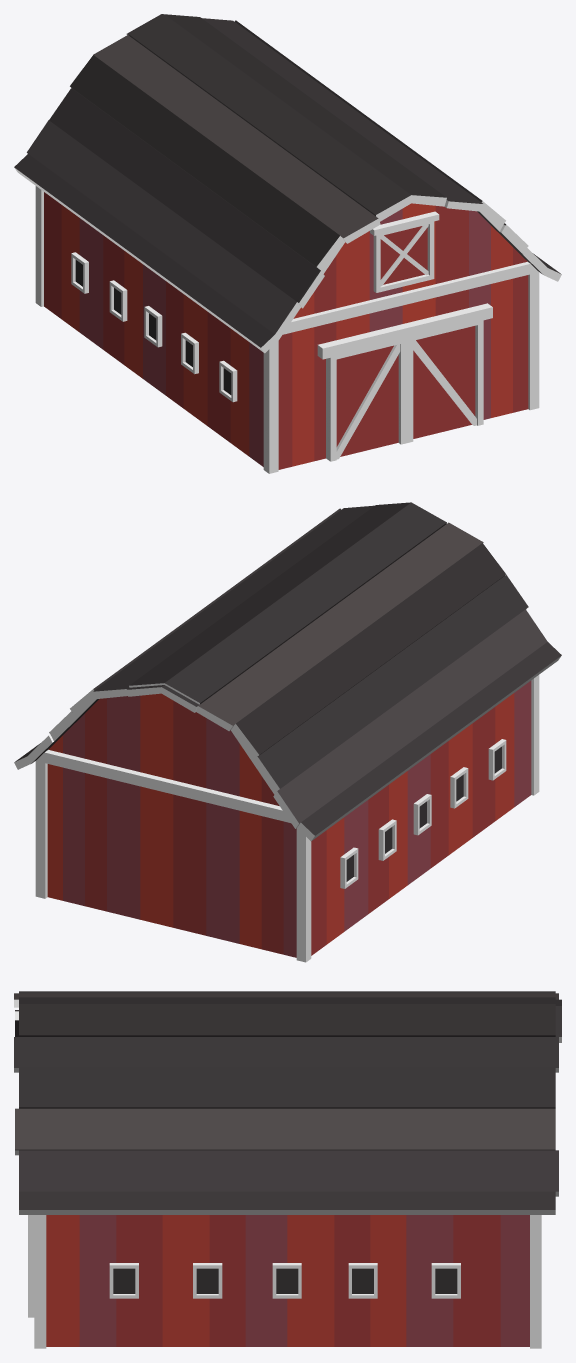
File: village_stable.gltf
The picture shows the model from 3 angles, top to bottom: view 1: azimuth 30°, elevation 25°; view 2: azimuth 150°, elevation 25°; view 3: azimuth 270°, elevation 25°; orthographic projection. The views are drawn at different scales.
Visible parts, largest first — view 1: Barn_Material.005_0 (×46); view 2: Barn_Material.005_0 (×37); view 3: Barn_Material.005_0 (×33).
Part boxes in pixels (x1,y1,x2,y2): Barn_Material.005_0 (×46): [14, 14, 539, 473]; Barn_Material.005_0 (×37): [35, 502, 561, 962]; Barn_Material.005_0 (×33): [19, 991, 555, 1348].
Bounding box in the file's own units: 2.9 × 2.31 × 4.2.
1 material, 1 textured.
